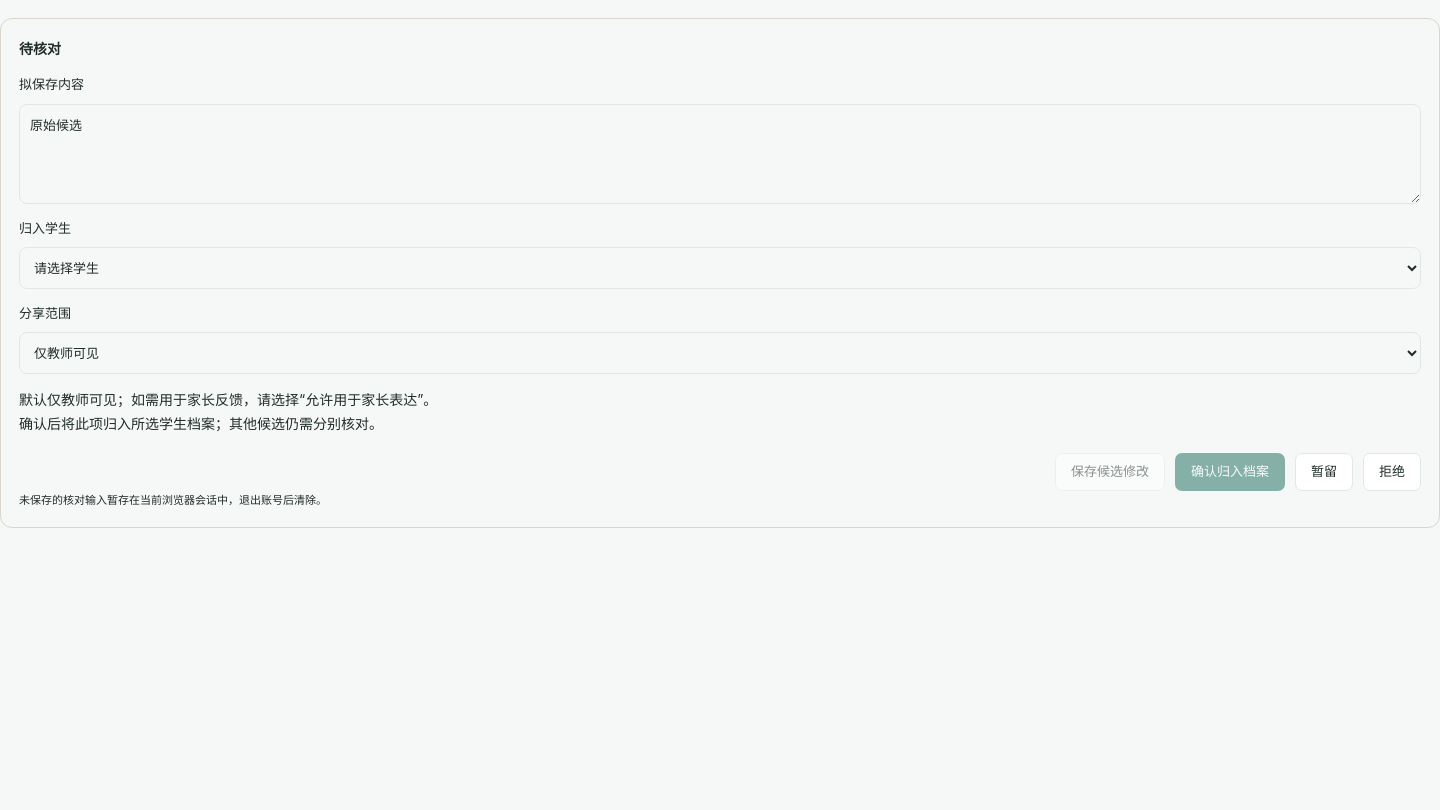
Scenario: candidate drafts and confirmation recovery in synthetic sessions › keeps the original confirmation immutable when a network failure is followed by an explicit 404
Select "小雨 · 五年级" in the dropdown labelled "归入学生" at (720, 268), box x1=19 y1=247 x2=1421 y2=289
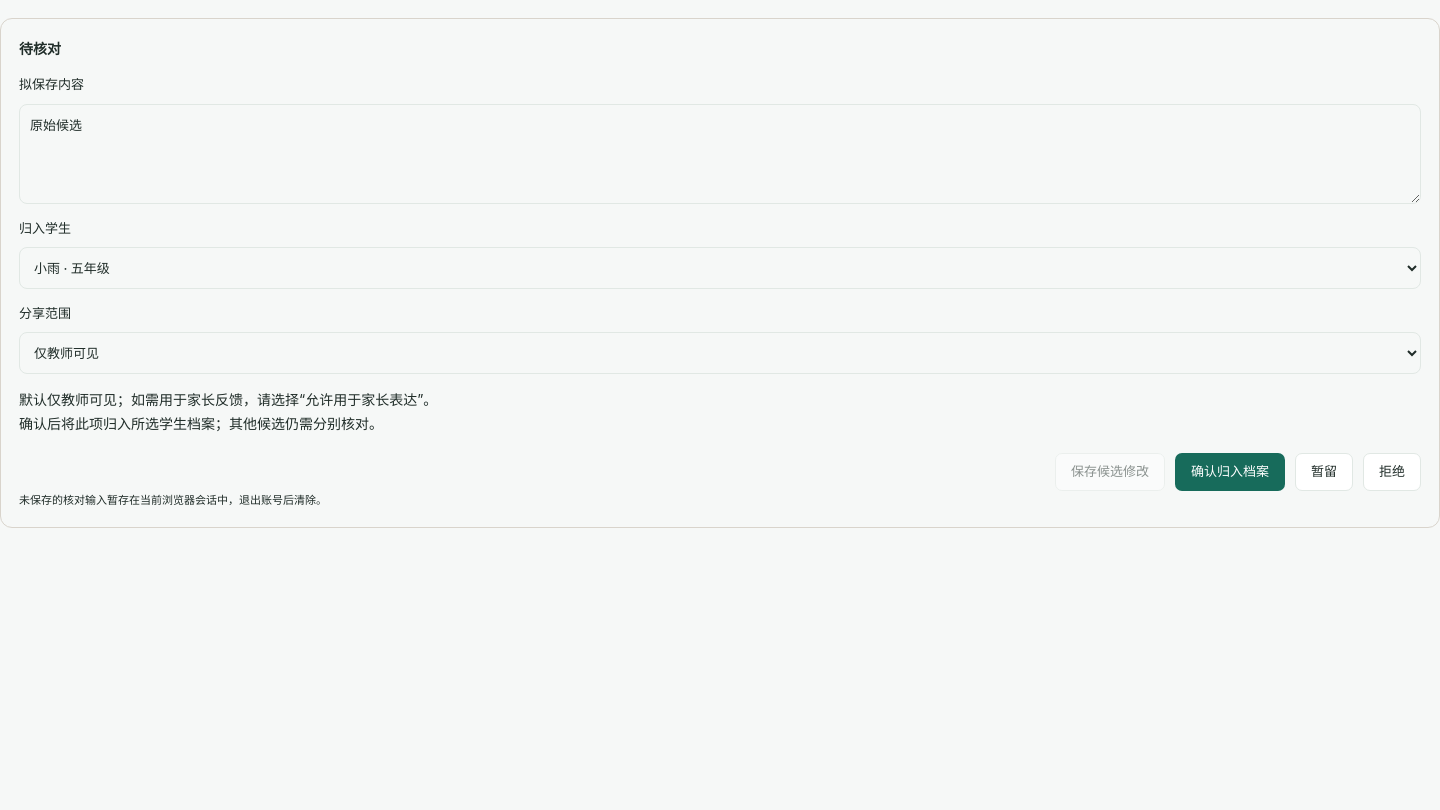
Click the button "确认归入档案".
click(1230, 472)  # box x1=1175 y1=453 x2=1285 y2=491
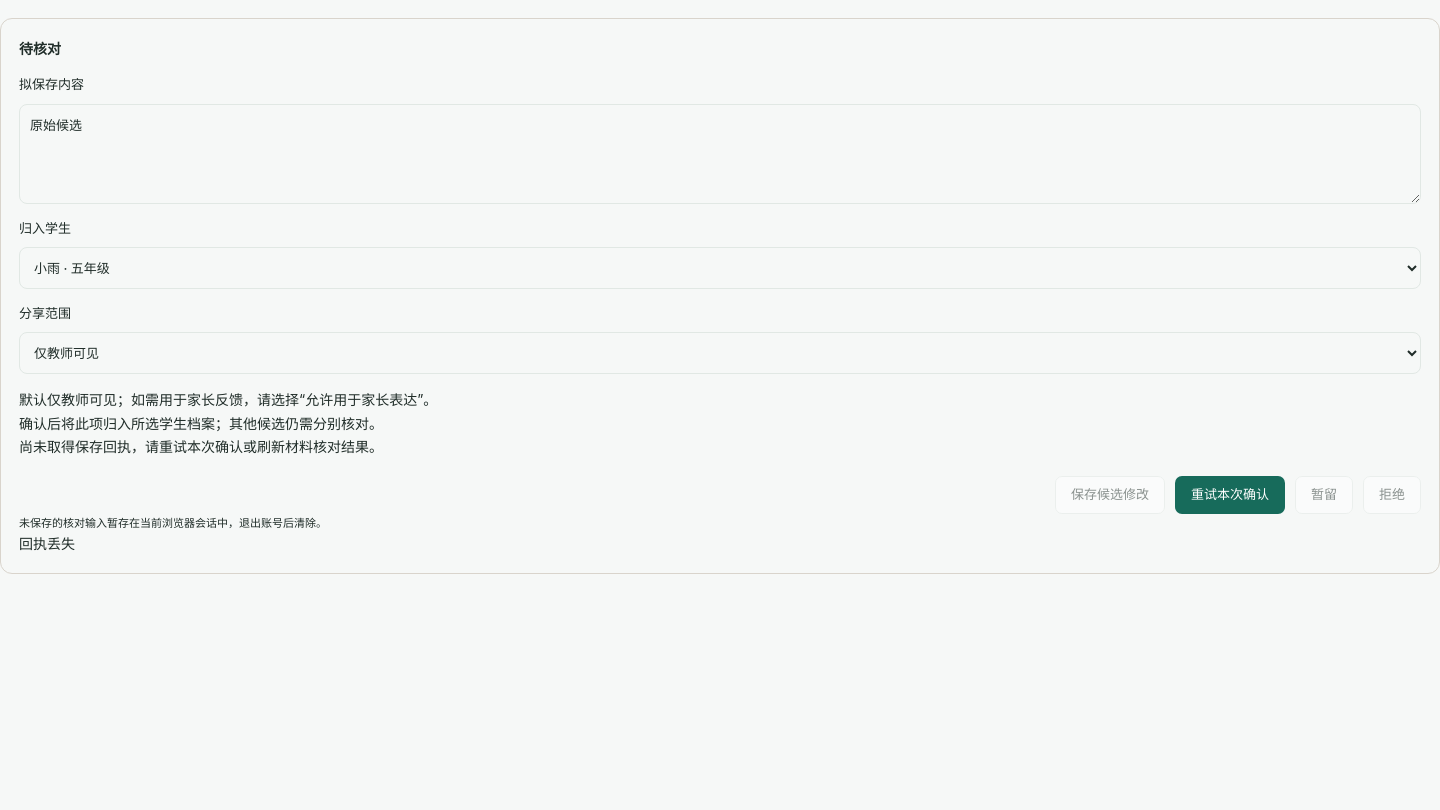
Expected: the text "回执丢失" is shown, x1=19 y1=535 x2=75 y2=552
Click the button "重试本次确认".
click(1230, 495)  # box x1=1175 y1=476 x2=1285 y2=514
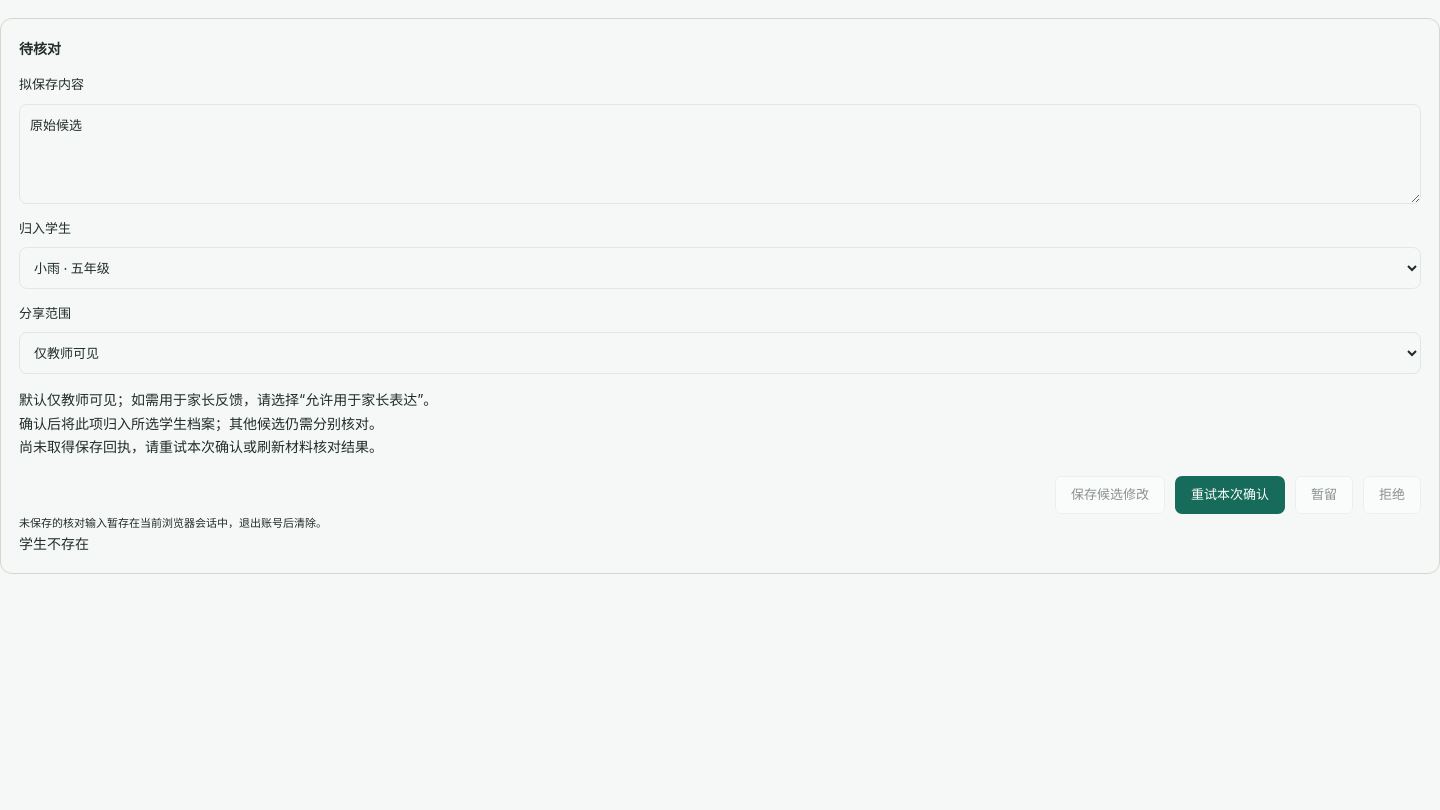
Expected: the text box labelled "拟保存内容" is disabled, x1=19 y1=104 x2=1421 y2=204
Expected: the dropdown labelled "归入学生" is disabled, x1=19 y1=247 x2=1421 y2=289
Expected: the text "学生不存在" is shown, x1=19 y1=535 x2=89 y2=552
